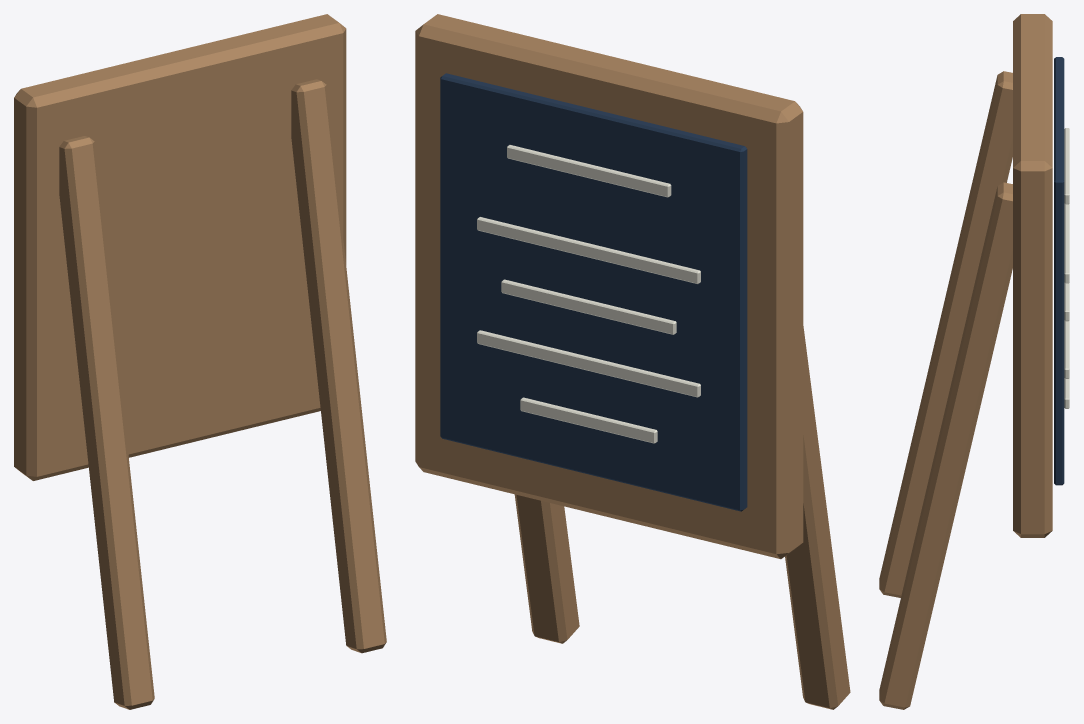
The model's file is menu_stand.glb.
3 renders of one model, left to right at view 1: azimuth 30°, elevation 25°; view 2: azimuth 150°, elevation 25°; view 3: azimuth 270°, elevation 25°, orthographic. The views are drawn at different scales.
Visible parts, largest first — view 1: board, leg (×2); view 2: face, board, leg (×2), menu_line (×5); view 3: leg (×2), board, face, menu_line (×3).
Part boxes in pixels (x1,y1,x2,y2): board: [14, 14, 346, 480]; leg (×2): [59, 79, 386, 709]; face: [440, 73, 747, 511]; board: [415, 14, 803, 559]; leg (×2): [514, 326, 850, 709]; menu_line (×5): [477, 145, 700, 443]; leg (×2): [879, 71, 1012, 709]; board: [1013, 14, 1052, 537]; face: [1054, 57, 1064, 485]; menu_line (×3): [1064, 128, 1069, 378].
Size of the model in its own units: 0.69 by 1.18 by 0.3616.
